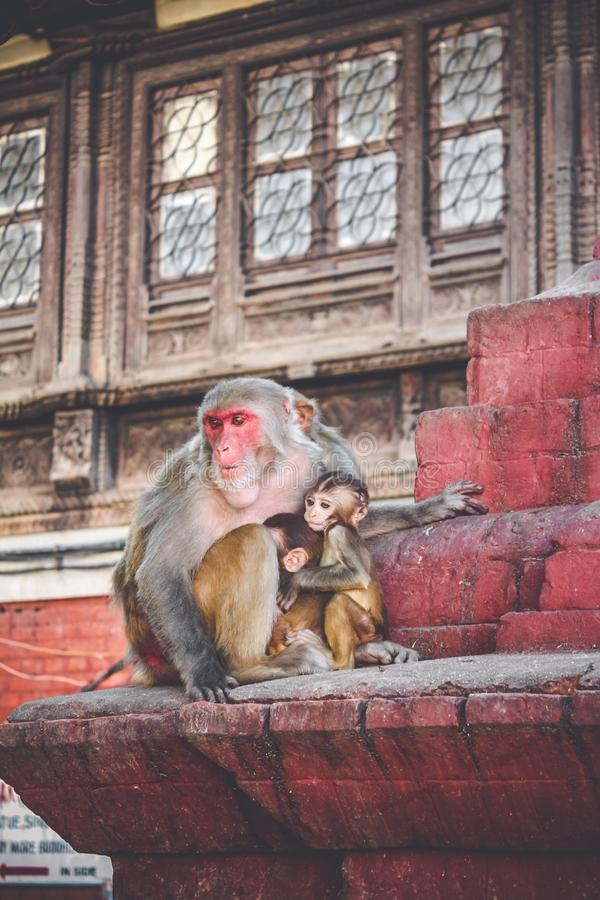monkey: (114, 376, 377, 701), (292, 470, 393, 681)
